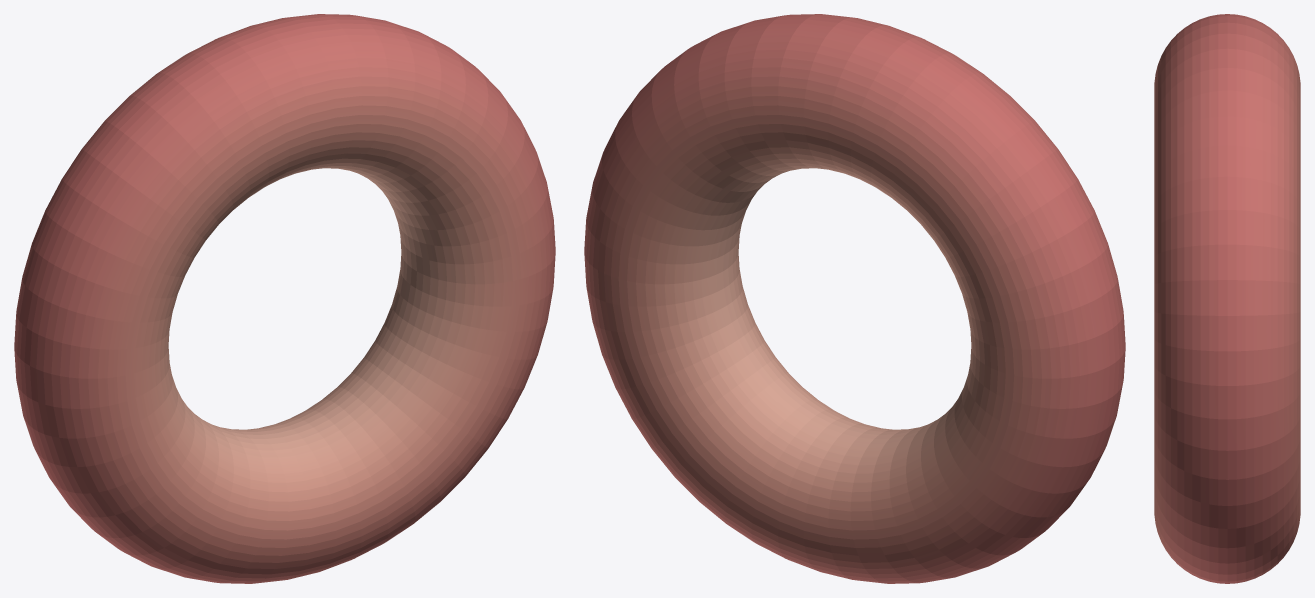
3 views of the same model, side by side, from view 1: azimuth 30°, elevation 25°; view 2: azimuth 150°, elevation 25°; view 3: azimuth 270°, elevation 25° (orthographic). The views are drawn at different scales.
Visible parts, largest first — view 1: world; view 2: world; view 3: world.
Boxes of the visible parts, bbox=[...] form: world: bbox=[14, 14, 555, 583]; world: bbox=[584, 14, 1125, 583]; world: bbox=[1154, 14, 1300, 583].
Size of the model in its own units: 29.6 by 29.54 by 7.59.
